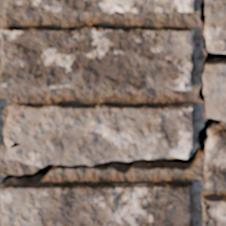brick: (0, 26, 194, 90), (4, 104, 192, 165), (33, 182, 192, 225), (4, 0, 194, 13), (0, 183, 40, 225), (204, 130, 225, 190), (203, 63, 225, 120), (205, 0, 225, 51), (202, 196, 225, 225), (203, 213, 206, 225)
crack: (2, 117, 223, 225), (203, 38, 225, 71), (202, 200, 216, 225), (5, 135, 21, 148), (199, 0, 206, 24), (198, 84, 205, 101)
